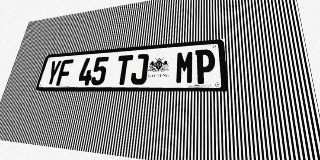4: (77, 58, 95, 85)
5: (90, 57, 109, 85)
F: (56, 59, 74, 86)
J: (130, 54, 149, 85)
M: (175, 50, 195, 84)
P: (195, 49, 215, 84)
T: (114, 55, 133, 85)
Y: (44, 60, 62, 86)
